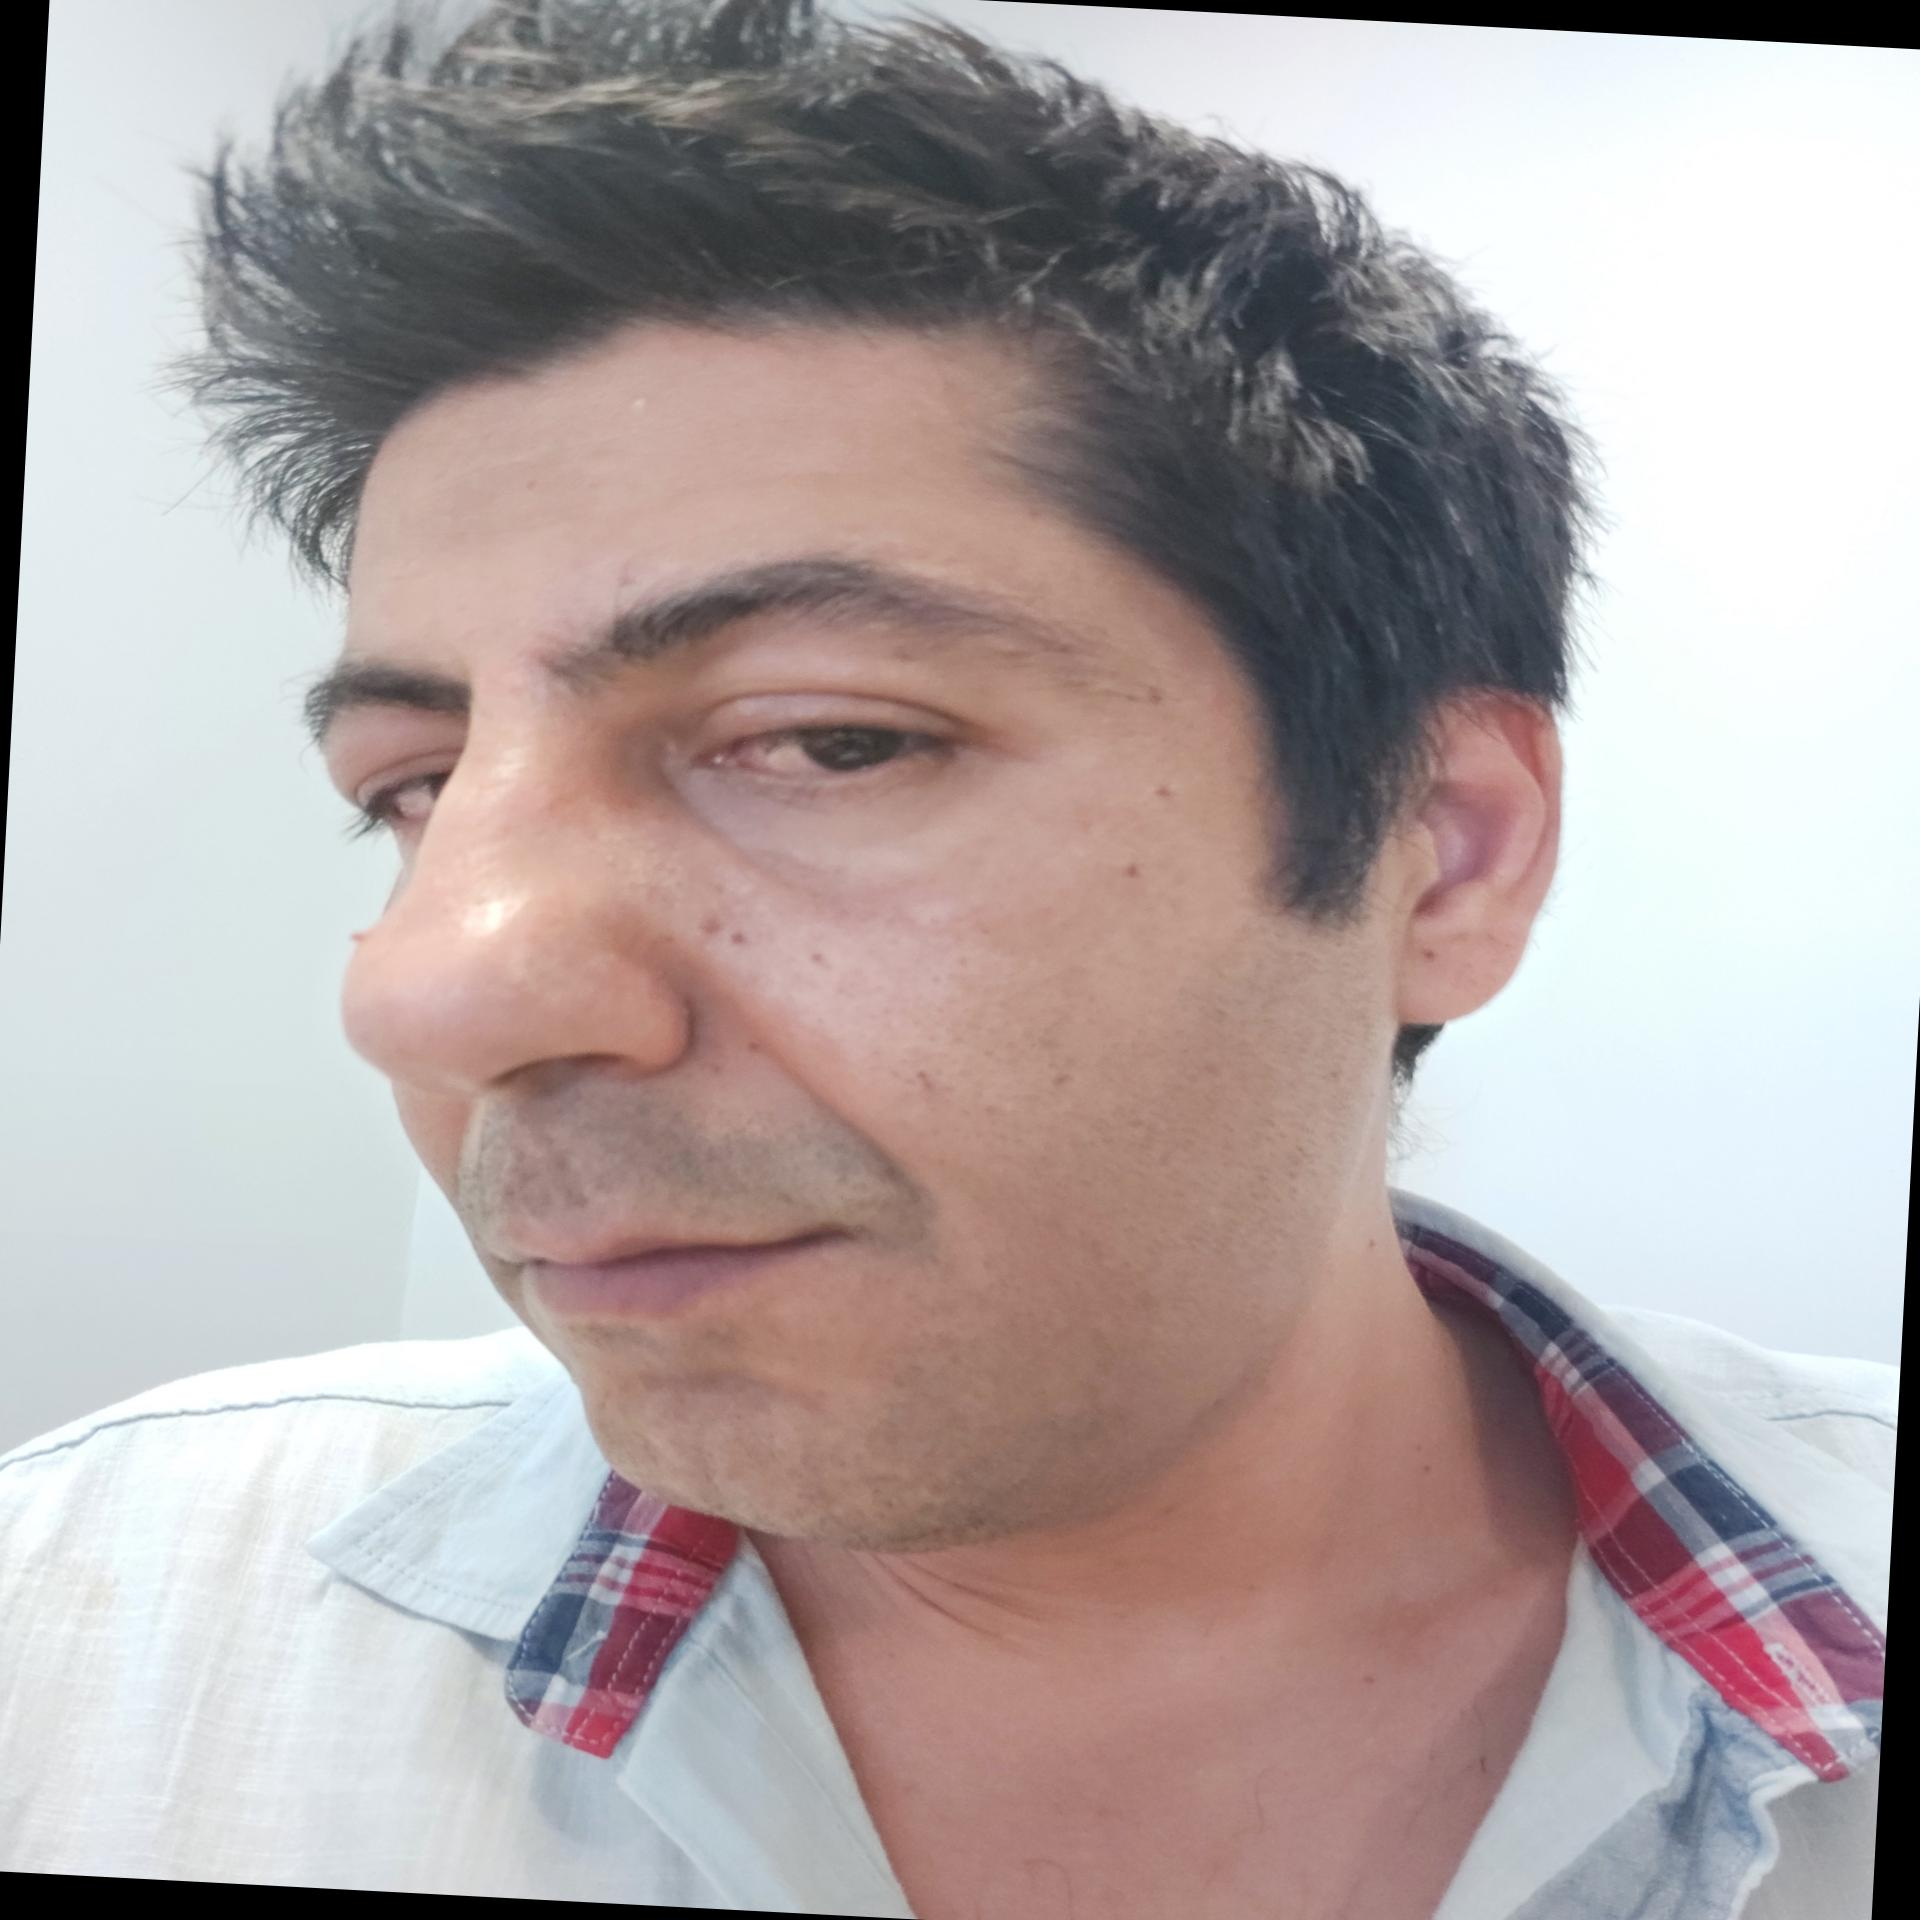Acne: (698, 986, 962, 1229), (445, 1106, 476, 1208), (614, 387, 656, 415)
Englarged Pores: (814, 921, 1083, 1087)
Wrinkles: (614, 459, 858, 526), (433, 422, 621, 489)
